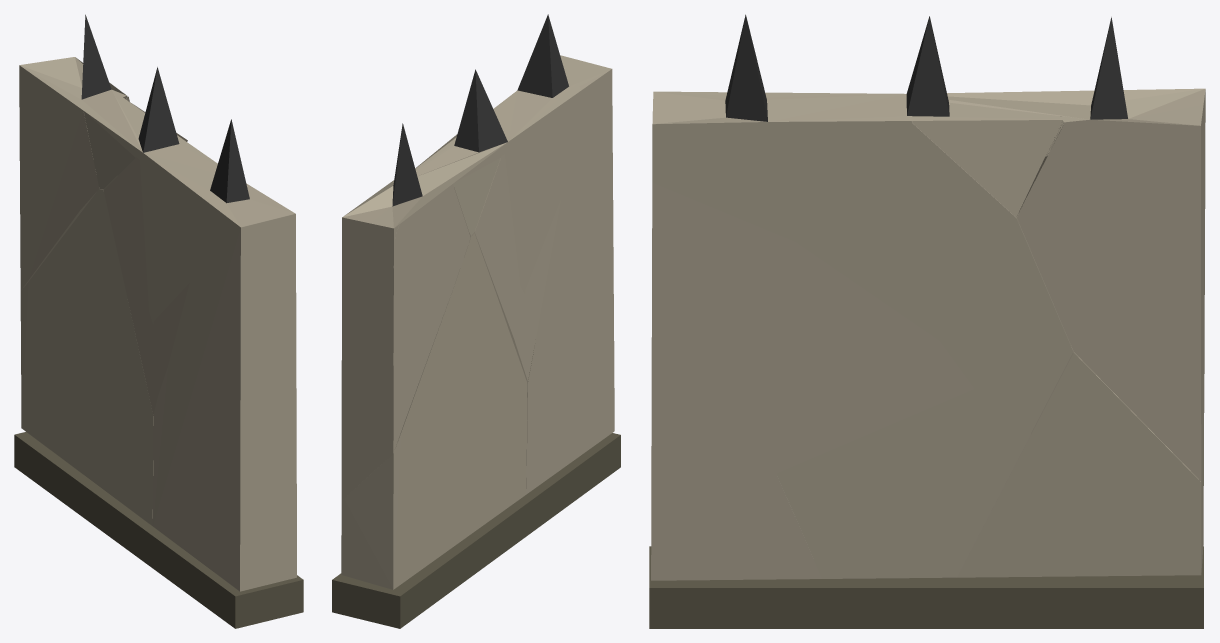
File: Fence.fbx
3 views of the same model, side by side, from view 1: azimuth 30°, elevation 25°; view 2: azimuth 150°, elevation 25°; view 3: azimuth 270°, elevation 25° (orthographic). The views are drawn at different scales.
Visible parts, largest first — view 1: Fence, Fence_cell.005, Fence_cell.004, Foundation, Fence_cell, Fence_cell.006, Fence_cell.001, Fence_cell.007; view 2: Fence, Fence_cell.004, Fence_cell.006, Fence_cell.005, Foundation, Fence_cell, Fence_cell.001; view 3: Fence_cell, Fence, Fence_cell.006, Fence_cell.004, Foundation, Fence_cell.001, Fence_cell.005.
Part boxes in pixels (x1=…): Fence: x1=19, y1=57, x2=296, y2=586; Fence_cell.005: x1=153, y1=205, x2=296, y2=591; Fence_cell.004: x1=21, y1=189, x2=153, y2=525; Foundation: x1=14, y1=432, x2=303, y2=628; Fence_cell: x1=103, y1=140, x2=295, y2=414; Fence_cell.006: x1=23, y1=14, x2=127, y2=287; Fence_cell.001: x1=83, y1=71, x2=187, y2=189; Fence_cell.007: x1=259, y1=543, x2=296, y2=586; Fence: x1=341, y1=14, x2=614, y2=589; Fence_cell.004: x1=344, y1=233, x2=527, y2=589; Fence_cell.006: x1=341, y1=124, x2=470, y2=499; Fence_cell.005: x1=526, y1=58, x2=614, y2=493; Foundation: x1=332, y1=433, x2=620, y2=628; Fence_cell: x1=472, y1=62, x2=577, y2=381; Fence_cell.001: x1=415, y1=85, x2=506, y2=236; Fence_cell: x1=652, y1=48, x2=1073, y2=578; Fence: x1=651, y1=16, x2=1205, y2=580; Fence_cell.006: x1=1017, y1=17, x2=1205, y2=481; Fence_cell.004: x1=957, y1=349, x2=1204, y2=577; Foundation: x1=649, y1=546, x2=1203, y2=628; Fence_cell.001: x1=907, y1=60, x2=1063, y2=217; Fence_cell.005: x1=652, y1=91, x2=821, y2=580.
Size of the model in its own units: 72.63 by 482 by 409.
